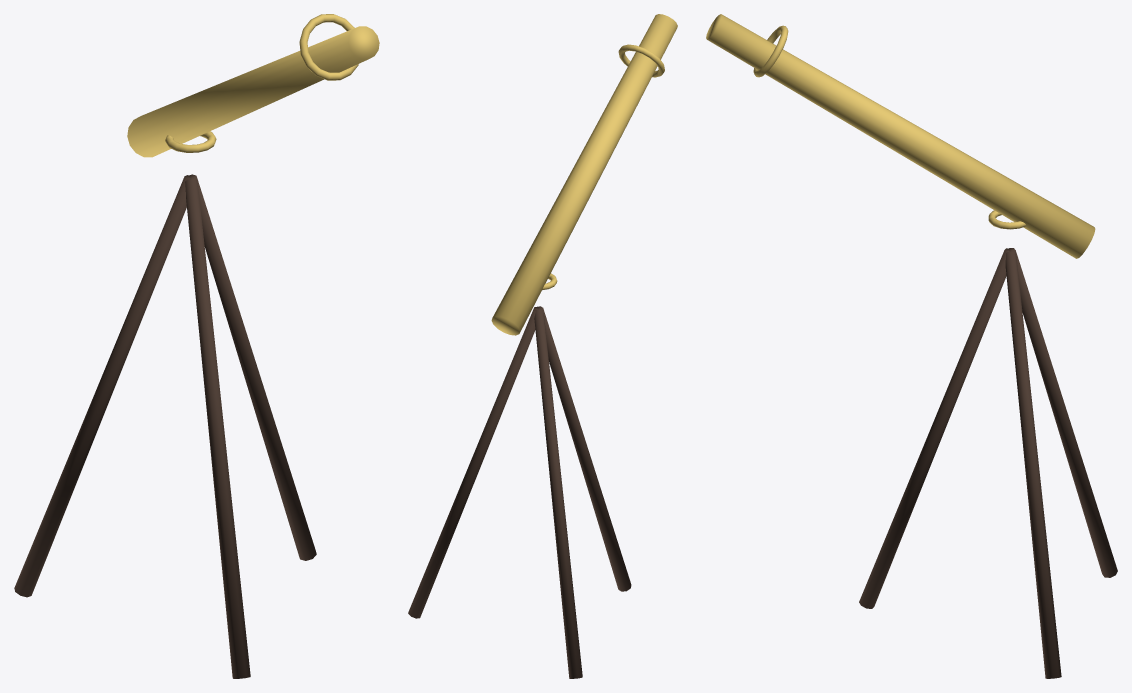
The model's file is telescope_brass_tripod.glb.
3 renders of one model, left to right at view 1: azimuth 30°, elevation 25°; view 2: azimuth 150°, elevation 25°; view 3: azimuth 270°, elevation 25°, orthographic. The views are drawn at different scales.
Parts seen in each view (by area): view 1: GD_telescope_brass_tripod__m0, GD_telescope_brass_tripod__m1; view 2: GD_telescope_brass_tripod__m0, GD_telescope_brass_tripod__m1; view 3: GD_telescope_brass_tripod__m0, GD_telescope_brass_tripod__m1.
Boxes of the visible parts, x1=… form: GD_telescope_brass_tripod__m0: x1=14, y1=174, x2=316, y2=678; GD_telescope_brass_tripod__m1: x1=127, y1=14, x2=379, y2=157; GD_telescope_brass_tripod__m0: x1=408, y1=306, x2=631, y2=678; GD_telescope_brass_tripod__m1: x1=491, y1=14, x2=677, y2=335; GD_telescope_brass_tripod__m0: x1=859, y1=248, x2=1117, y2=678; GD_telescope_brass_tripod__m1: x1=706, y1=14, x2=1095, y2=258.
Bounding box in the file's own units: 0.7177 × 1.82 × 1.12.
